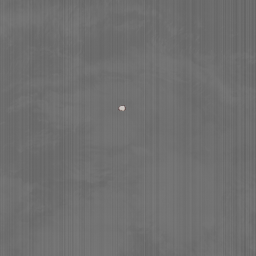Target: (118, 104, 127, 112)
